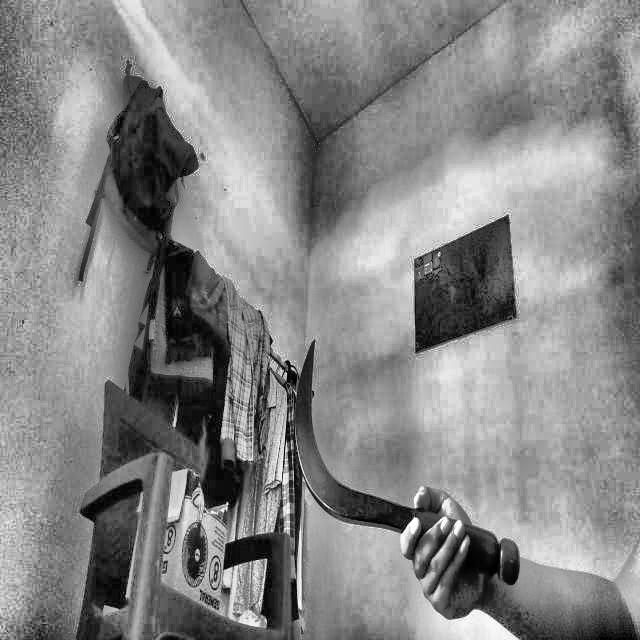celurit: (294, 327, 535, 590)
